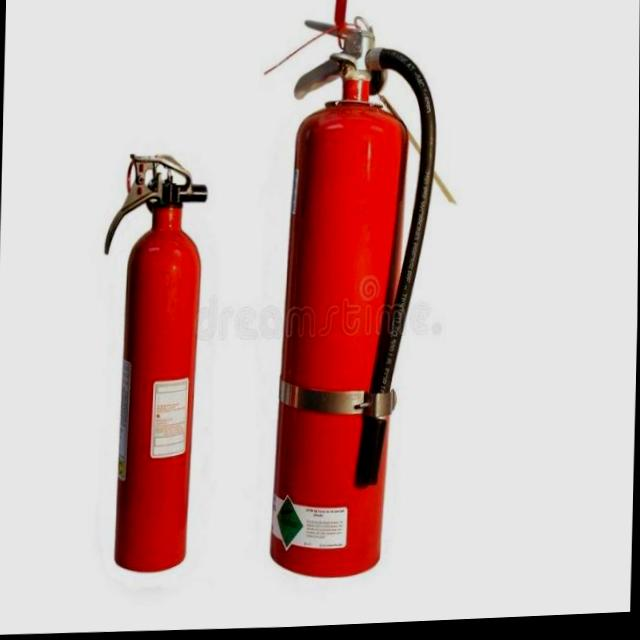FireExtinguisher: (264, 0, 444, 589), (89, 146, 212, 579)
